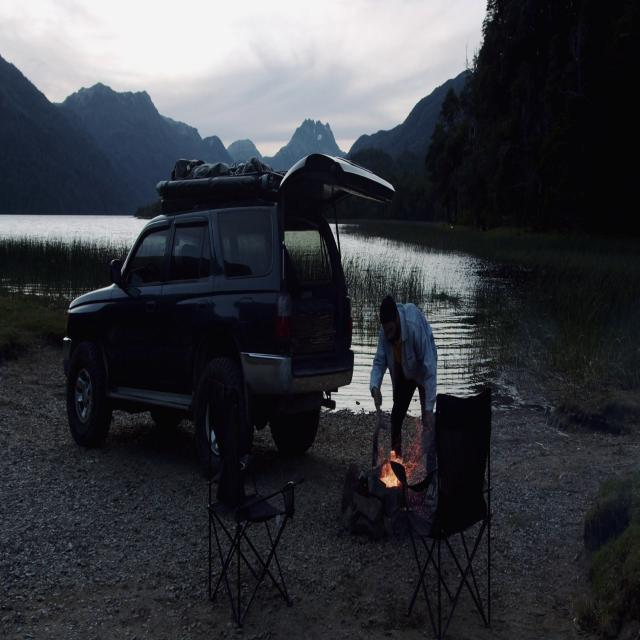Fire: (382, 442, 404, 492)
